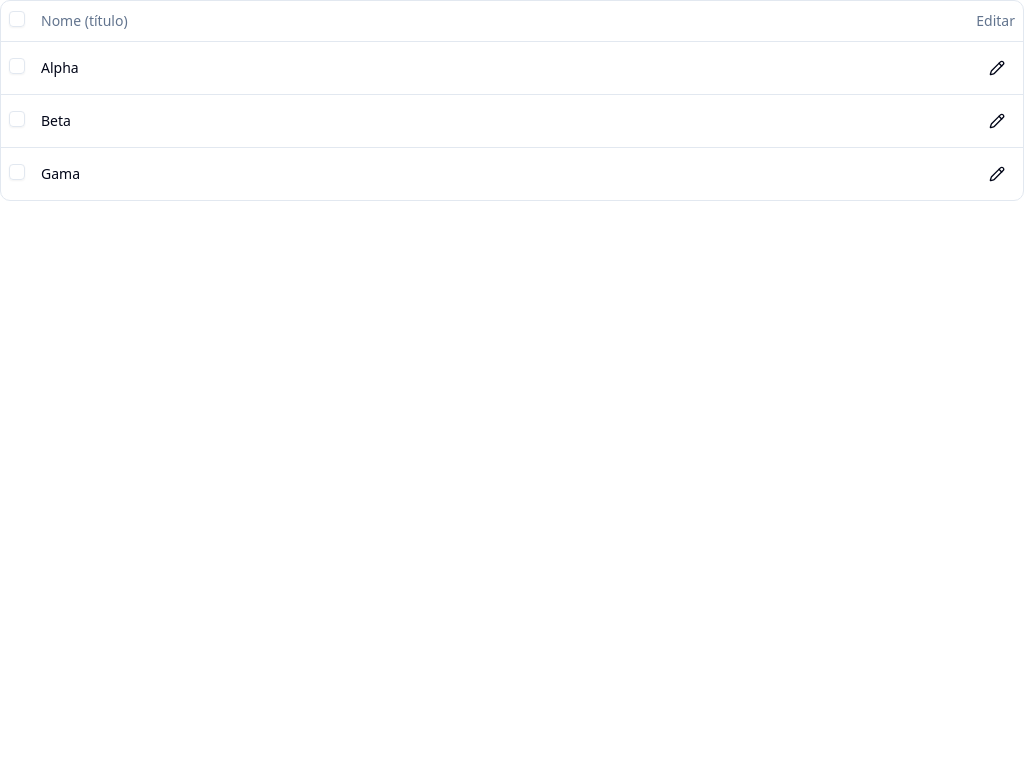
it: duplo clique abre o registro › o lápis também abre o mesmo painel içado
What coordinates should you click on to do the following:
click the button named "Editar registro" in the row of "Alpha"
I would click on:
 (997, 68)
Its box is [979,50,1015,86].
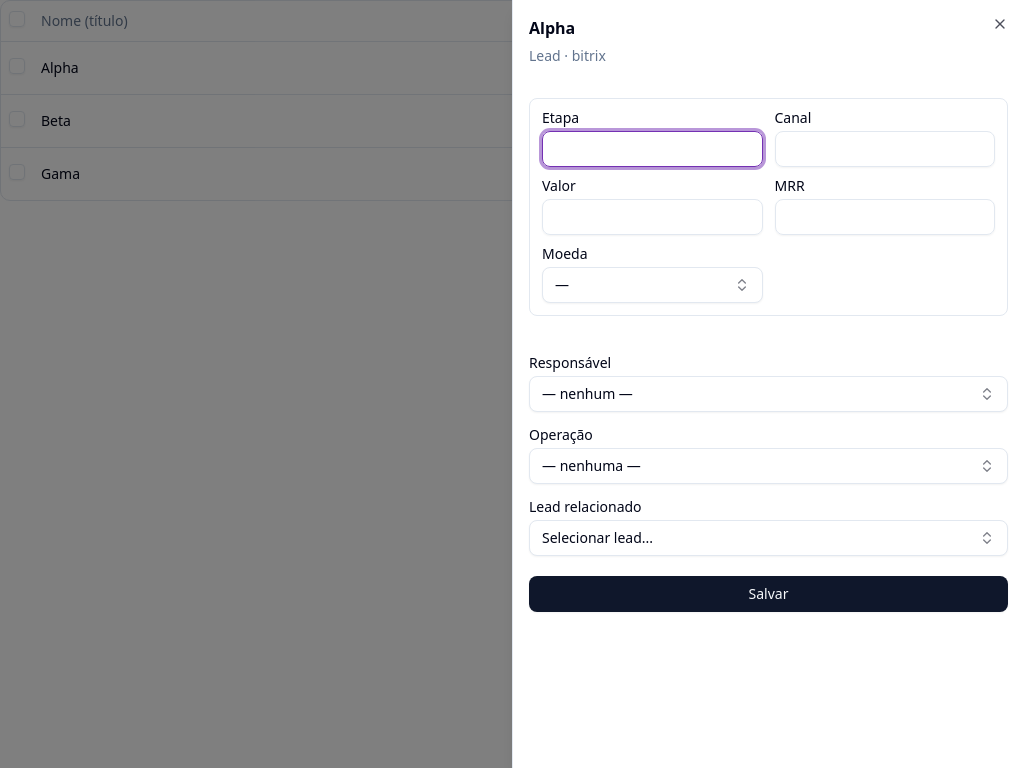
Result: the dialog shows "Alpha" at [529,17,575,39]
